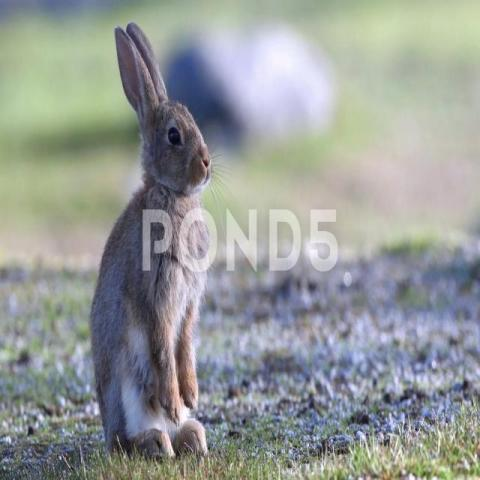small_animal: (87, 20, 222, 464)
